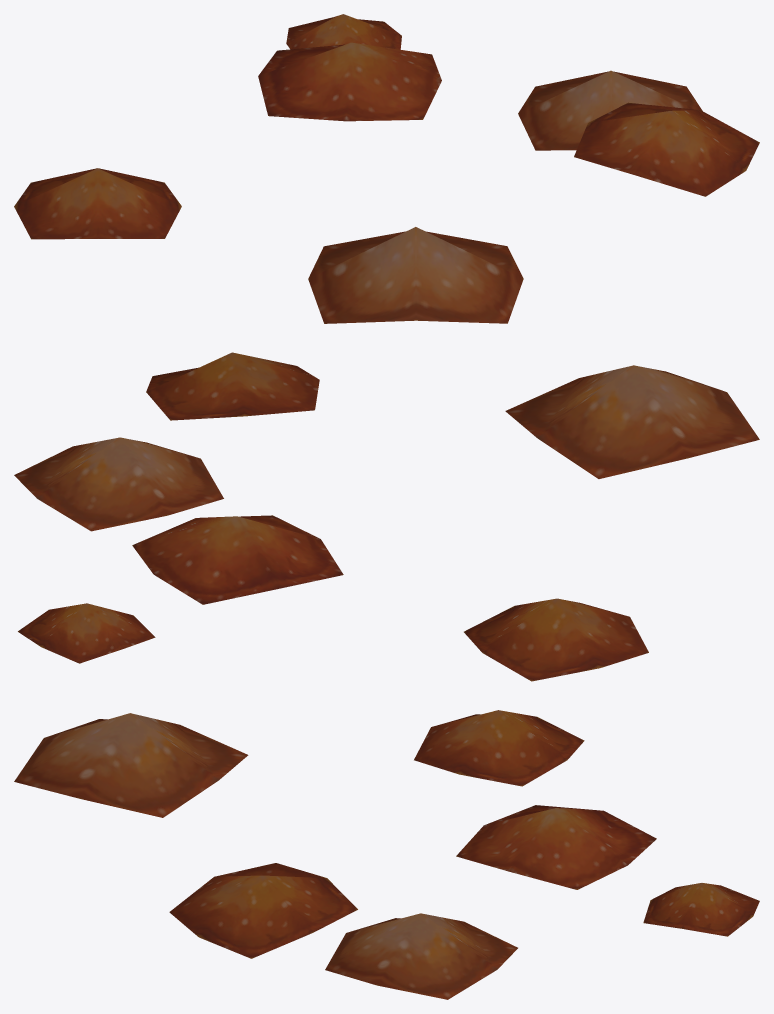
Rendered from Mushroom_Cluster_02.fbx.
3 renders of one model, top to bottom at view 1: azimuth 30°, elevation 25°; view 2: azimuth 150°, elevation 25°; view 3: azimuth 270°, elevation 25°, orthographic. The views are drawn at different scales.
Visible parts, largest first — view 1: Mushroom_Cluster_02; view 2: Mushroom_Cluster_02; view 3: Mushroom_Cluster_02.
Part boxes in pixels (bbox=[...]): Mushroom_Cluster_02: bbox=[14, 14, 759, 323]; Mushroom_Cluster_02: bbox=[14, 352, 759, 681]; Mushroom_Cluster_02: bbox=[14, 710, 759, 999].
Size of the model in its own units: 1.38 by 0.2035 by 1.49.
1 material, 1 textured.
